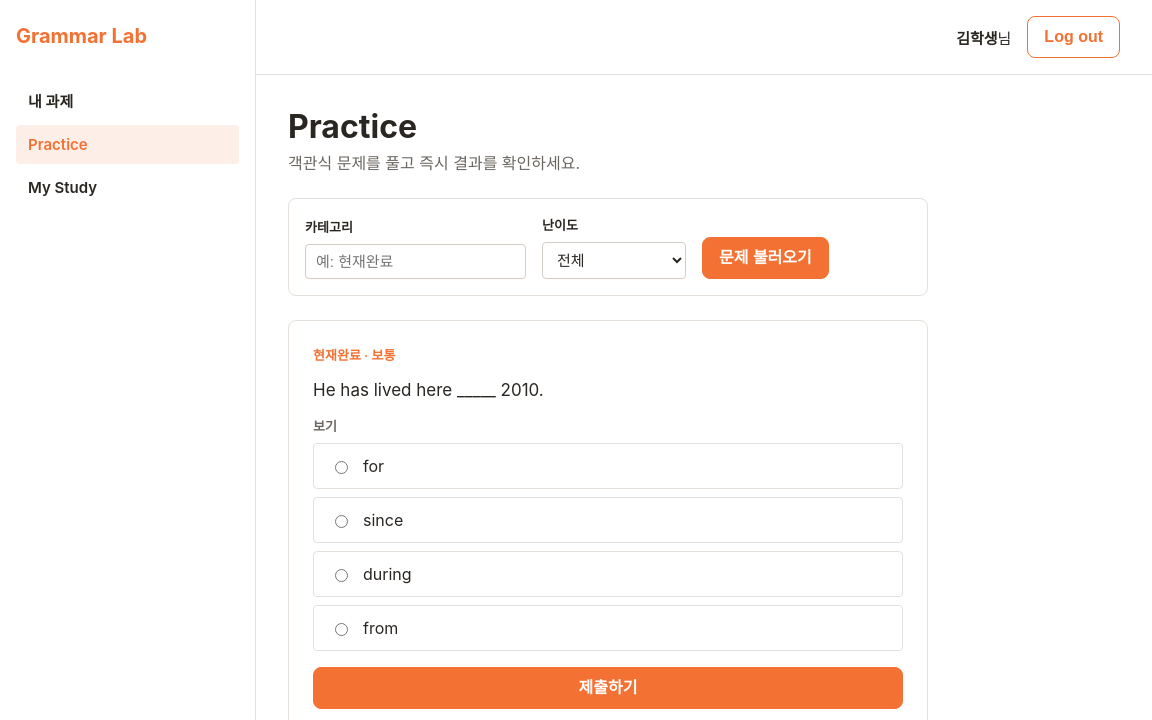
Test: StudentPracticePage › submits an incorrect choice and renders the incorrect result with the correct answer for learning
Check: the text "He has lived here _____ 2010." is shown, box [313, 380, 544, 400]
Step 1. Click the radio button labelled "for" → (342, 468), box [335, 461, 348, 474]
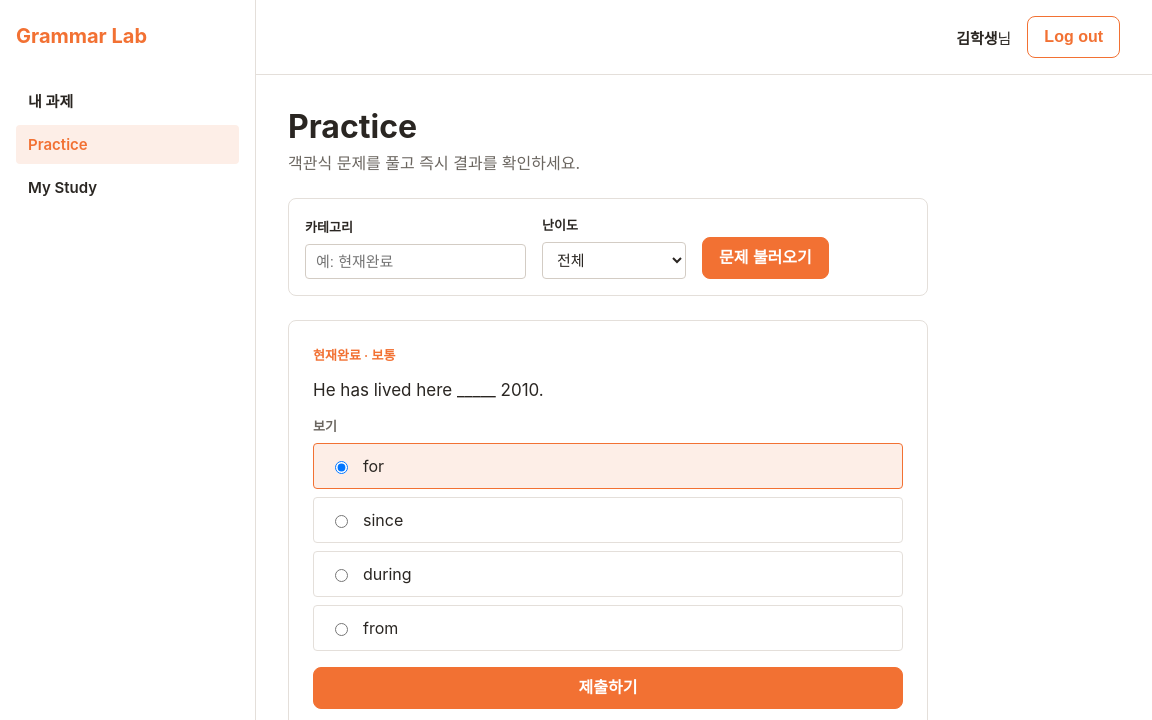
Step 2. Click the button "제출하기" → (608, 688), box [313, 667, 903, 709]
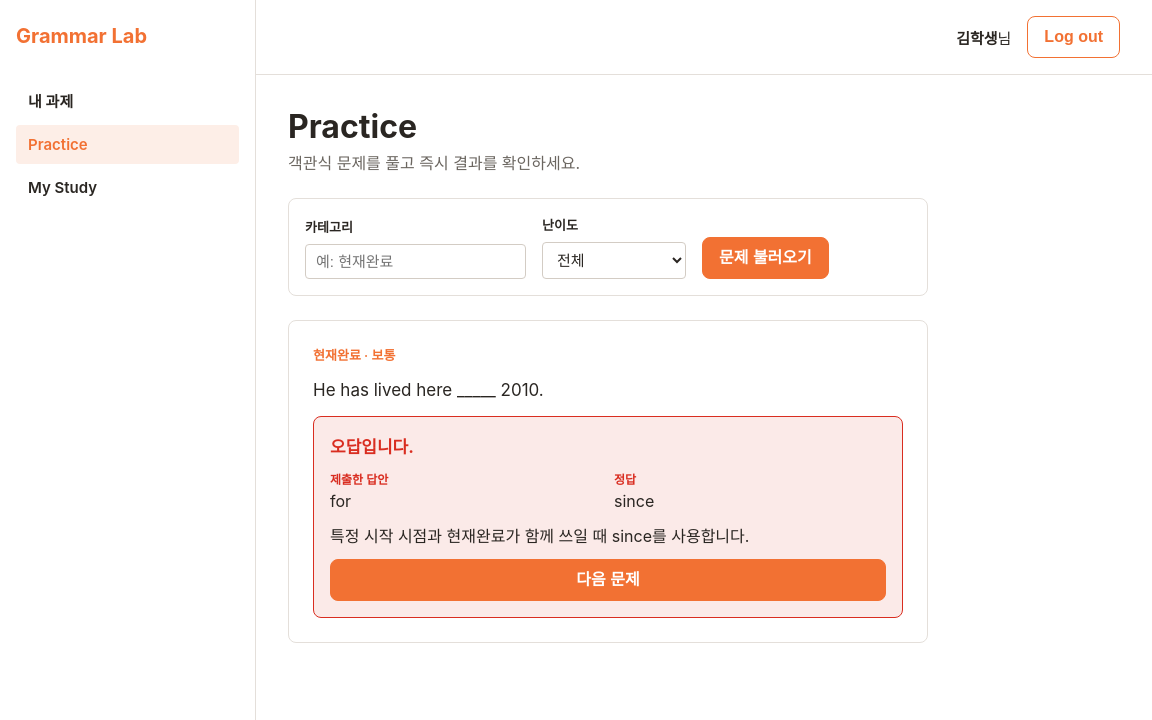
Check: the message shows "오답입니다.", box [330, 437, 414, 457]
Check: the message shows "for", box [330, 491, 351, 511]
Check: the message shows "since", box [614, 491, 654, 511]
